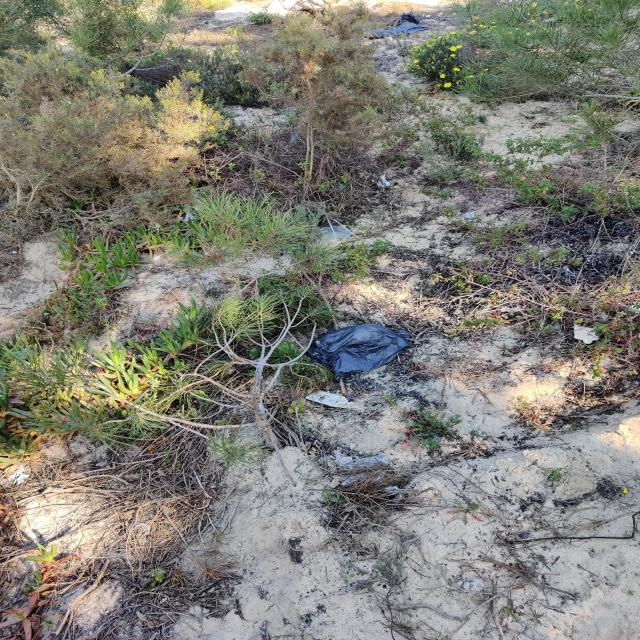litter: (282, 306, 425, 388), (360, 10, 428, 42)
